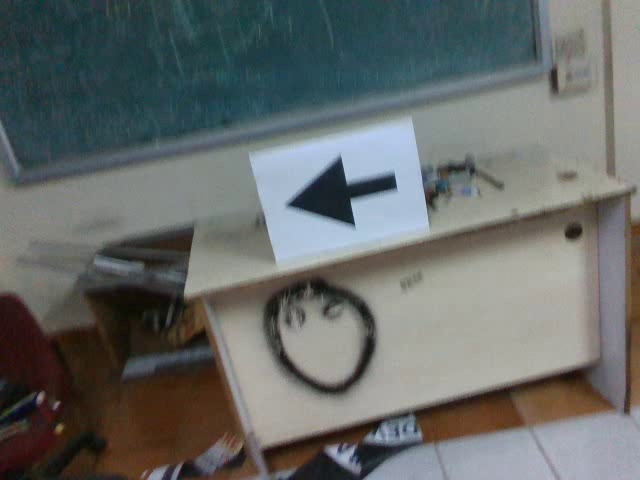Left: (282, 153, 401, 232)
